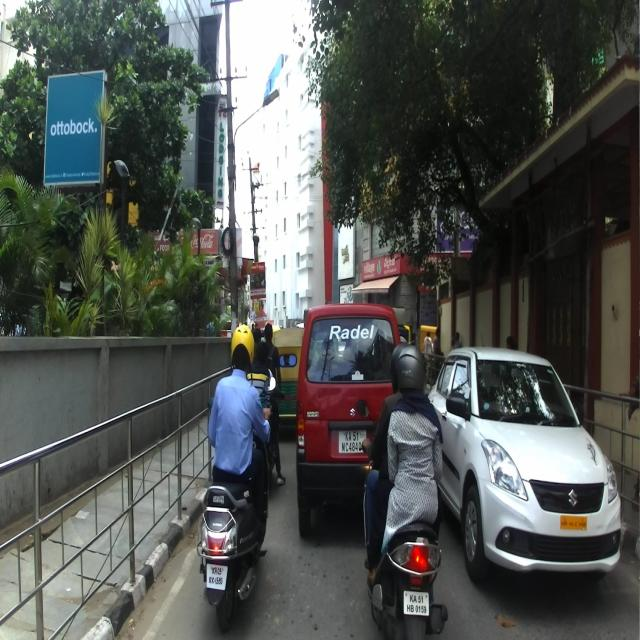car: (427, 346, 620, 584), (296, 302, 409, 535)
